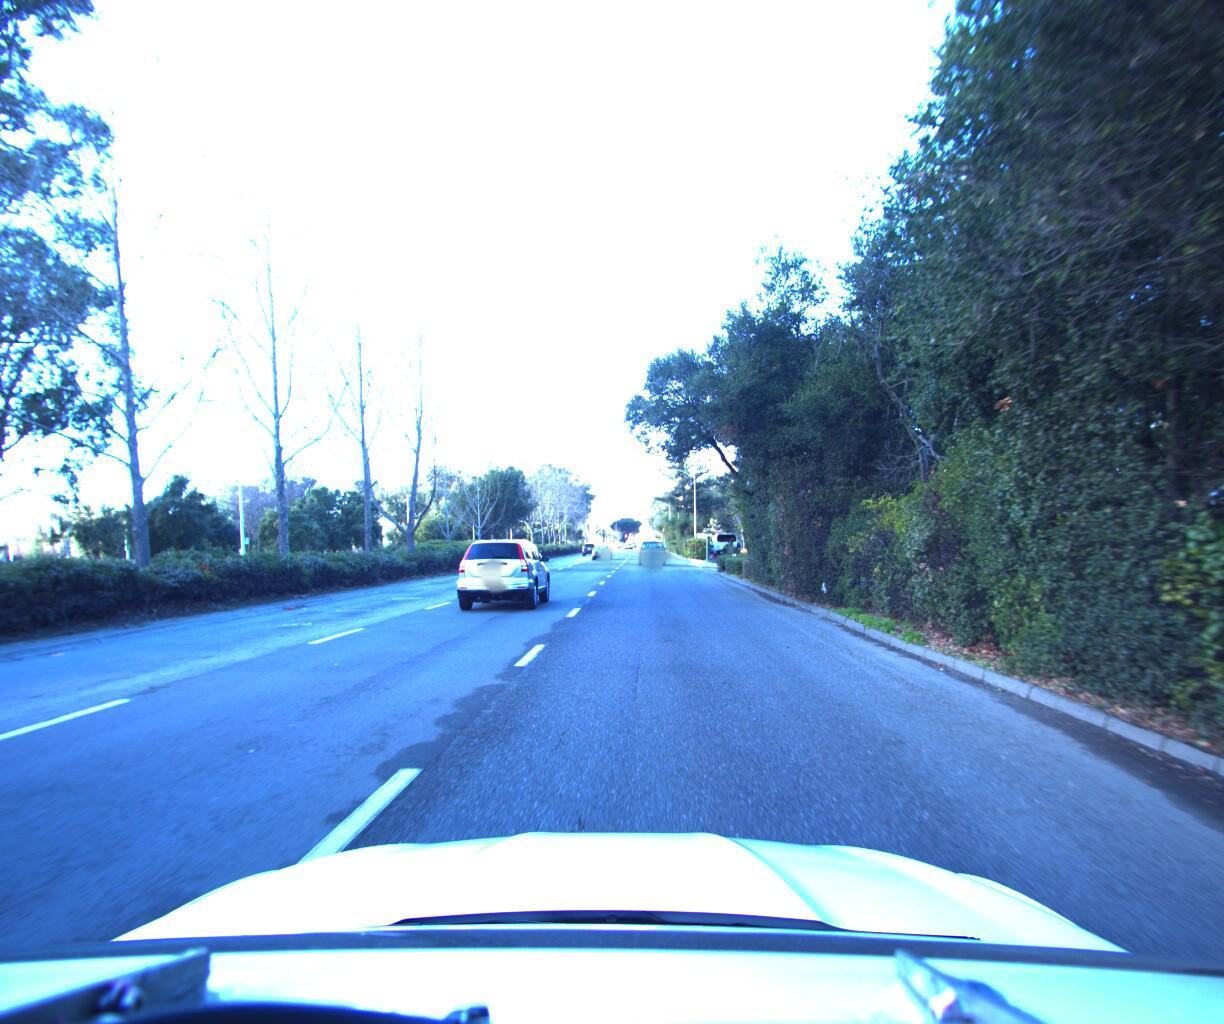car: (447, 528, 554, 610), (632, 534, 668, 562), (587, 537, 611, 554)
